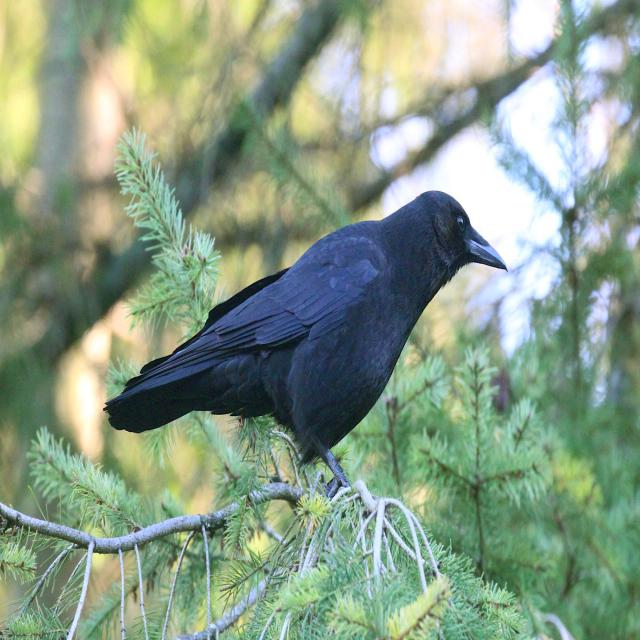crow: (104, 191, 506, 496)
